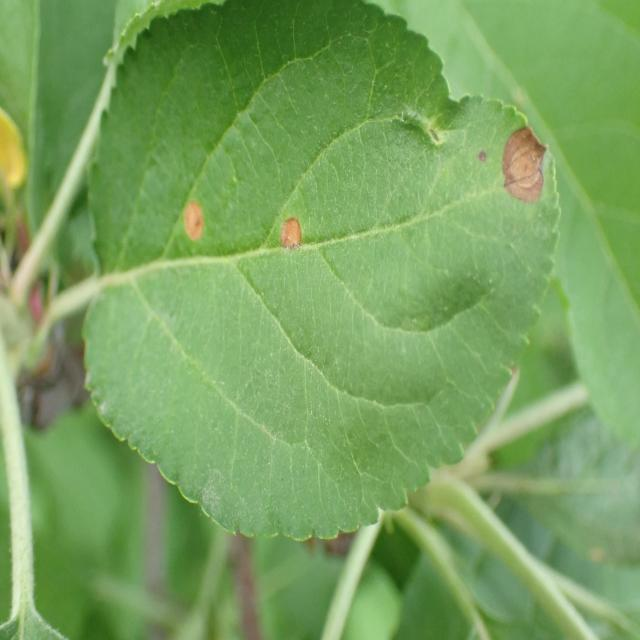Black Rot: (474, 103, 577, 234), (254, 193, 322, 269), (173, 166, 219, 262)
